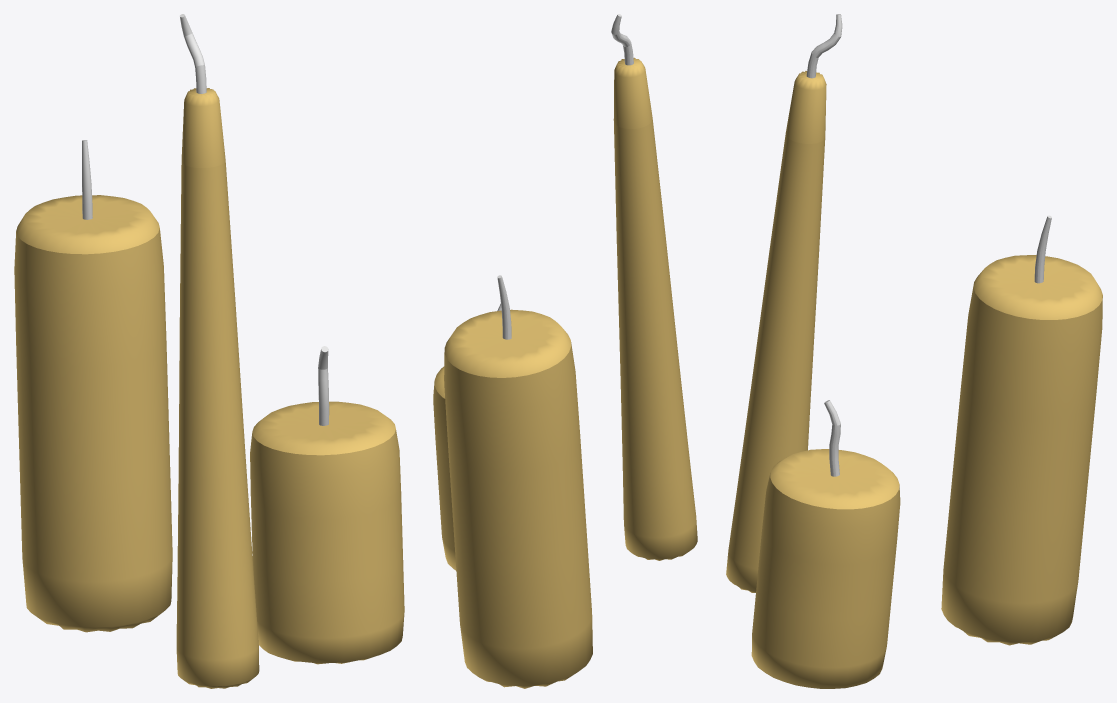
Rendered from mum.fbx.
3 views of the same model, side by side, from view 1: azimuth 30°, elevation 25°; view 2: azimuth 150°, elevation 25°; view 3: azimuth 270°, elevation 25° (orthographic). The views are drawn at different scales.
Visible parts, largest first — view 1: Circle.012, Circle.013; view 2: Circle.012, Circle.013; view 3: Circle.012, Circle.013.
Boxes of the visible parts, <box> form: Circle.012: <box>14,88,404,688</box>; Circle.013: <box>82,14,329,425</box>; Circle.012: <box>433,57,697,688</box>; Circle.013: <box>497,14,633,339</box>; Circle.012: <box>726,71,1102,688</box>; Circle.013: <box>806,14,1051,476</box>.
Bounding box in the file's own units: 97.31 × 241 × 136.
